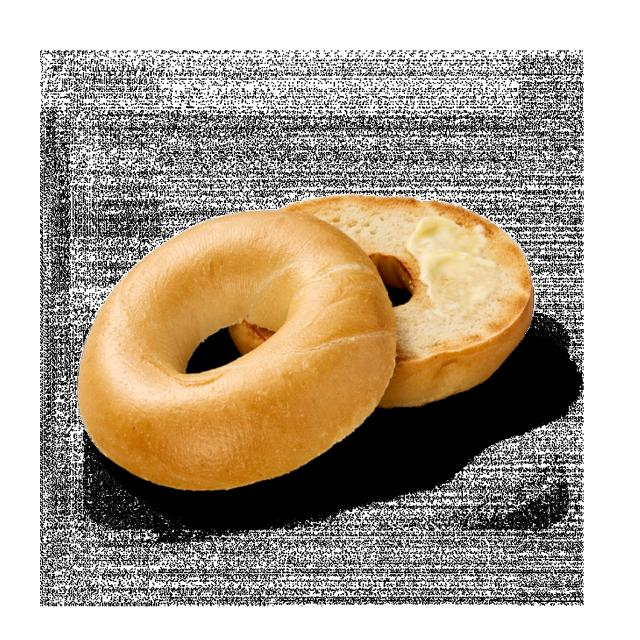Bagel: (79, 211, 396, 490)
